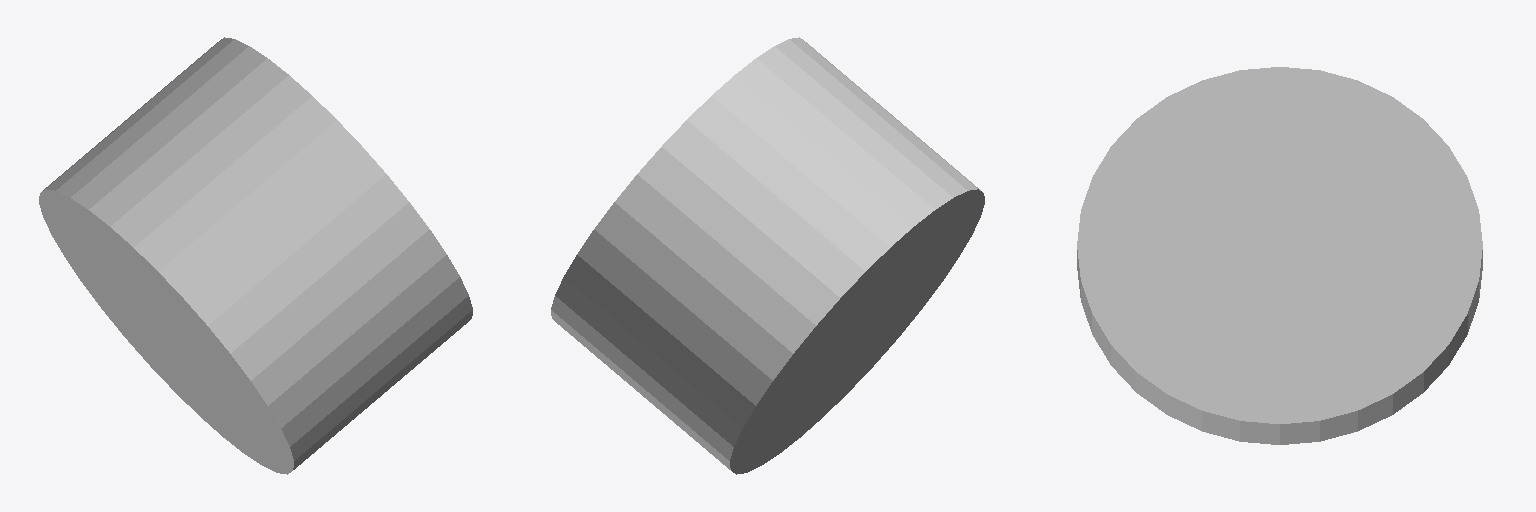
File: Button.obj
3 renders of one model, left to right at view 1: azimuth 30°, elevation 25°; view 2: azimuth 150°, elevation 25°; view 3: azimuth 270°, elevation 25°, orthographic.
Visible parts, largest first — view 1: Cylinder; view 2: Cylinder; view 3: Cylinder.
Part boxes in pixels (bbox=[...]): Cylinder: bbox=[39, 37, 472, 474]; Cylinder: bbox=[551, 37, 984, 474]; Cylinder: bbox=[1077, 67, 1482, 444].
Bounding box in the file's own units: 1.43 × 1.59 × 1.5.